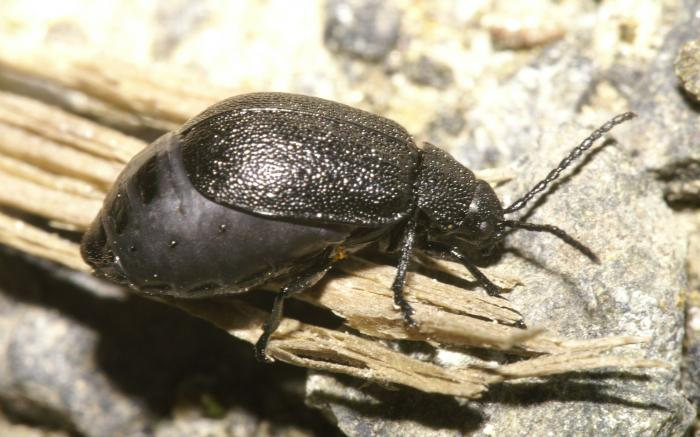Galeruca_tanaceti: (64, 90, 635, 359)
